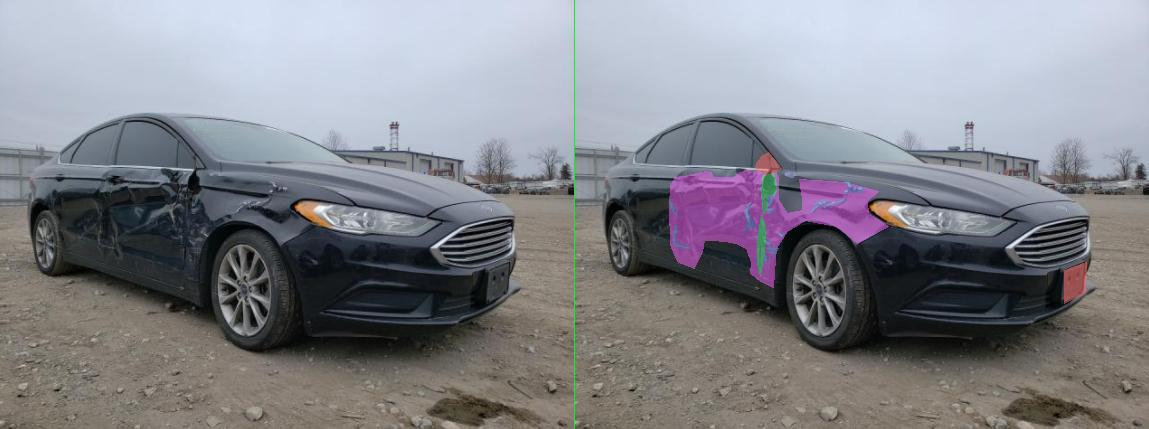Broken part: (372, 167, 402, 214), (364, 215, 380, 276)
Dent: (188, 170, 627, 287)
Missing part: (979, 262, 1023, 303), (360, 152, 412, 174)
Scratch: (196, 224, 230, 249), (338, 203, 360, 231), (498, 198, 542, 209), (470, 200, 504, 213), (188, 200, 204, 216), (538, 182, 554, 194), (384, 194, 398, 206), (552, 187, 579, 193), (384, 247, 406, 254), (376, 238, 394, 246), (384, 208, 400, 214), (376, 253, 386, 262), (420, 172, 438, 177), (406, 232, 416, 238)
